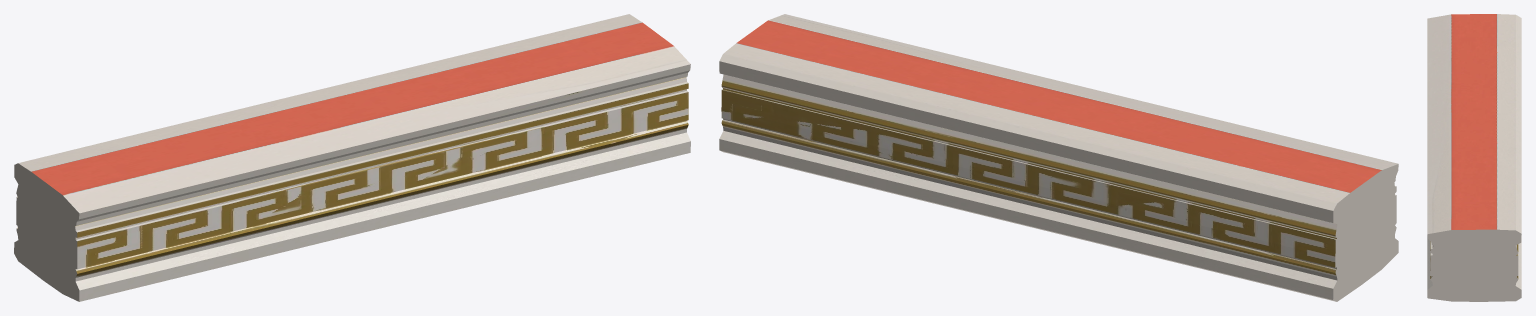
Rendered from edge_coral.glb.
3 views of the same model, side by side, from view 1: azimuth 30°, elevation 25°; view 2: azimuth 150°, elevation 25°; view 3: azimuth 270°, elevation 25° (orthographic). The views are drawn at different scales.
Parts seen in each view (by area): view 1: edge_coral; view 2: edge_coral; view 3: edge_coral.
Boxes of the visible parts, x1,y1,x2,y2 form: edge_coral: (14,14,690,301); edge_coral: (719,14,1398,301); edge_coral: (1427,14,1521,301).
Size of the model in its own units: 2.8 by 0.4376 by 0.5186.
1 material, 1 textured.
